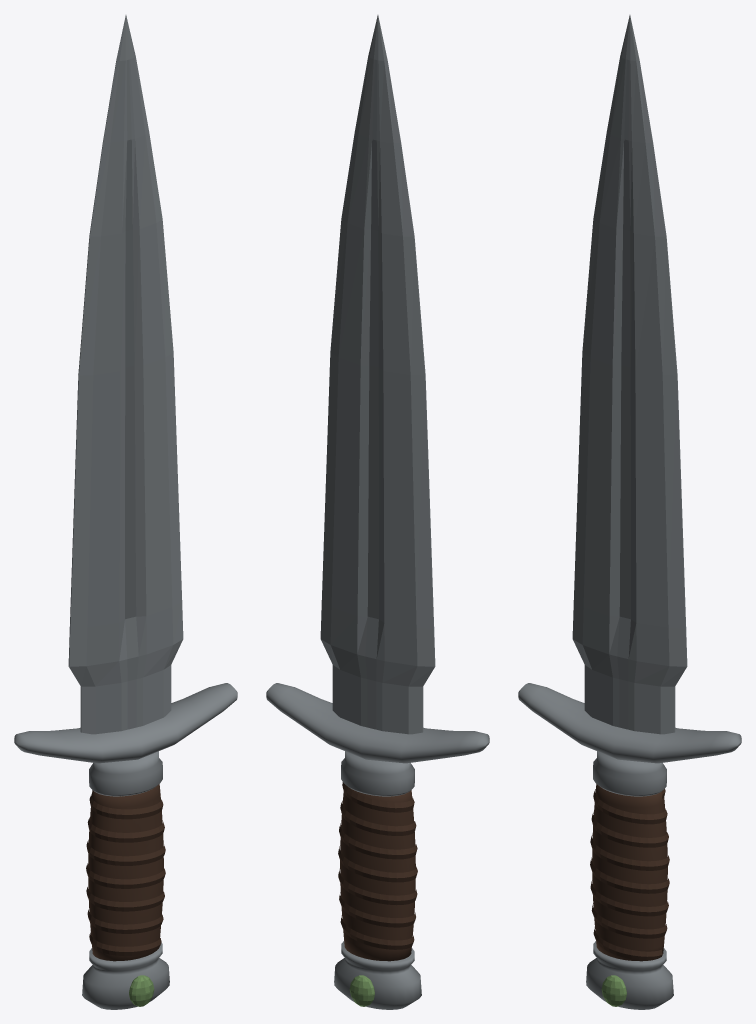
File: corealm_dagger_2.glb
3 views of the same model, side by side, from view 1: azimuth 30°, elevation 25°; view 2: azimuth 150°, elevation 25°; view 3: azimuth 330°, elevation 25° (orthographic).
Parts seen in each view (by area): view 1: equipment-dagger-blade, equipment-dagger-metal, equipment-dagger-leather, equipment-dagger-gem; view 2: equipment-dagger-blade, equipment-dagger-metal, equipment-dagger-leather, equipment-dagger-gem; view 3: equipment-dagger-blade, equipment-dagger-metal, equipment-dagger-leather, equipment-dagger-gem.
Boxes of the visible parts, x1,y1,x2,y2 form: equipment-dagger-blade: (68, 15, 183, 734); equipment-dagger-metal: (14, 683, 237, 1009); equipment-dagger-leather: (86, 784, 165, 961); equipment-dagger-gem: (129, 975, 154, 1006); equipment-dagger-blade: (320, 15, 435, 734); equipment-dagger-metal: (266, 683, 489, 1009); equipment-dagger-leather: (338, 782, 417, 961); equipment-dagger-gem: (349, 975, 374, 1006); equipment-dagger-blade: (572, 15, 687, 734); equipment-dagger-metal: (518, 683, 741, 1009); equipment-dagger-leather: (590, 784, 669, 961); equipment-dagger-gem: (601, 975, 626, 1006).
Bounding box in the file's own units: 0.18 × 0.778 × 0.056.
